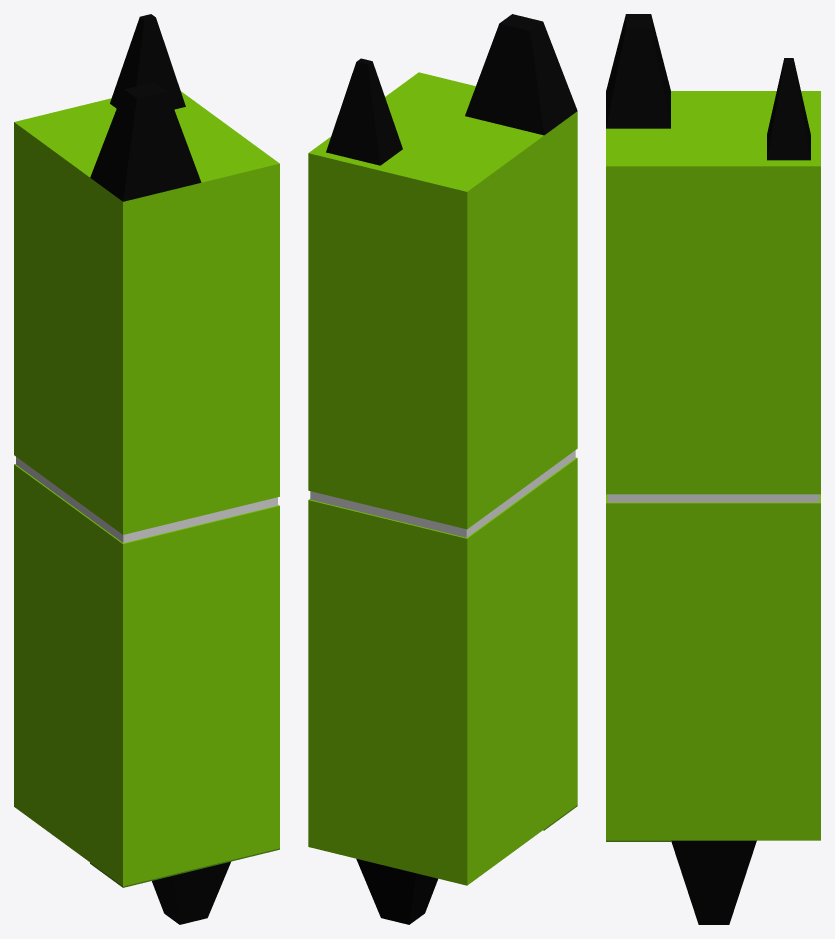
The model's file is Fusible_4_fake.fbx.
3 views of the same model, side by side, from view 1: azimuth 30°, elevation 25°; view 2: azimuth 150°, elevation 25°; view 3: azimuth 270°, elevation 25° (orthographic). The views are drawn at different scales.
Parts seen in each view (by area): view 1: Fusible.006; view 2: Fusible.006; view 3: Fusible.006.
Part boxes in pixels (<box>): Fusible.006: <box>14,14,279,924</box>; Fusible.006: <box>308,14,577,924</box>; Fusible.006: <box>606,14,820,924</box>.
Bounding box in the file's own units: 47.93 × 255 × 57.74.
